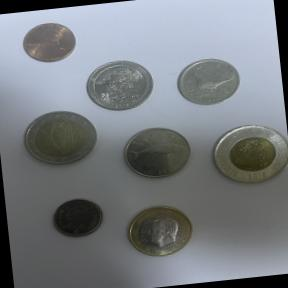coin: (116, 197, 209, 270), (204, 116, 288, 193), (16, 105, 102, 171), (114, 122, 199, 186), (81, 54, 159, 116), (11, 12, 87, 72), (44, 190, 112, 246)
